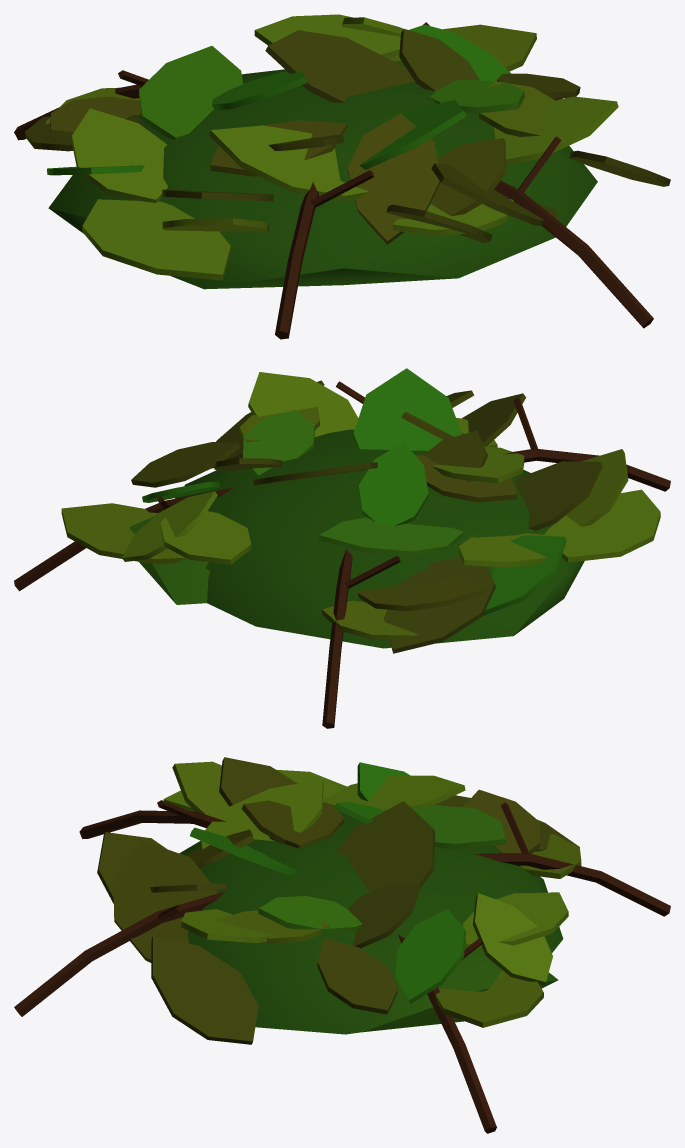
File: fountain_leaves.glb
3 views of the same model, one above another, from view 1: azimuth 30°, elevation 25°; view 2: azimuth 150°, elevation 25°; view 3: azimuth 270°, elevation 25° (orthographic). The views are drawn at different scales.
Visible parts, largest first — view 1: pv3_fountain_leaves; view 2: pv3_fountain_leaves; view 3: pv3_fountain_leaves.
Boxes of the visible parts, box(x1,y1,x2,y2) form: pv3_fountain_leaves: box(14, 14, 670, 339); pv3_fountain_leaves: box(14, 368, 670, 728); pv3_fountain_leaves: box(14, 757, 670, 1133).
Size of the model in its own units: 0.6465 by 0.2064 by 0.6773.
